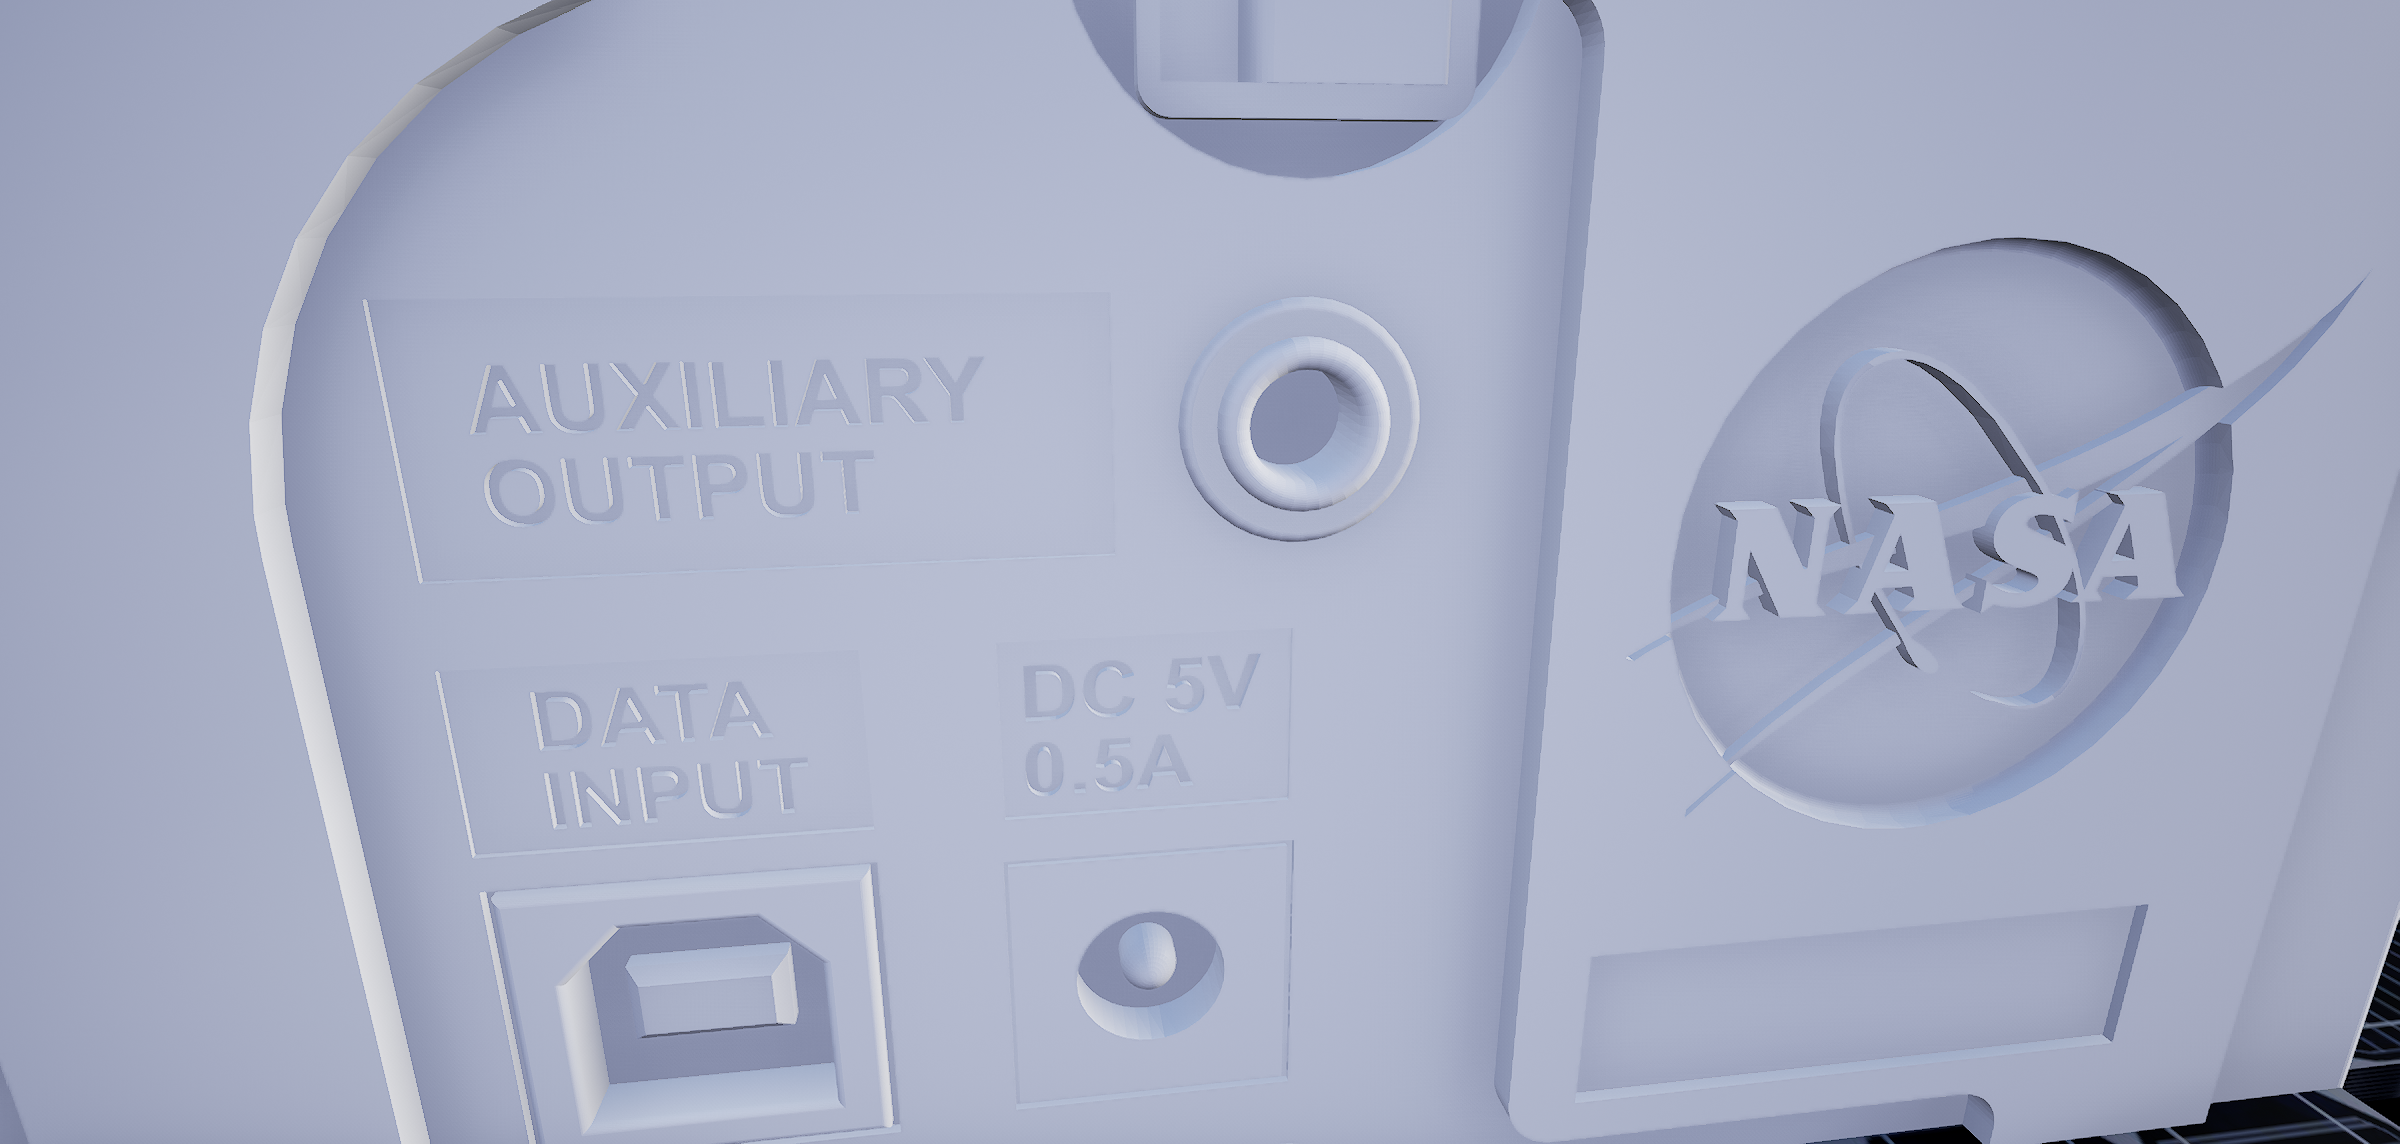aux: (1169, 285, 1453, 567)
dc: (1058, 899, 1232, 1041)
usb: (549, 910, 851, 1121)
